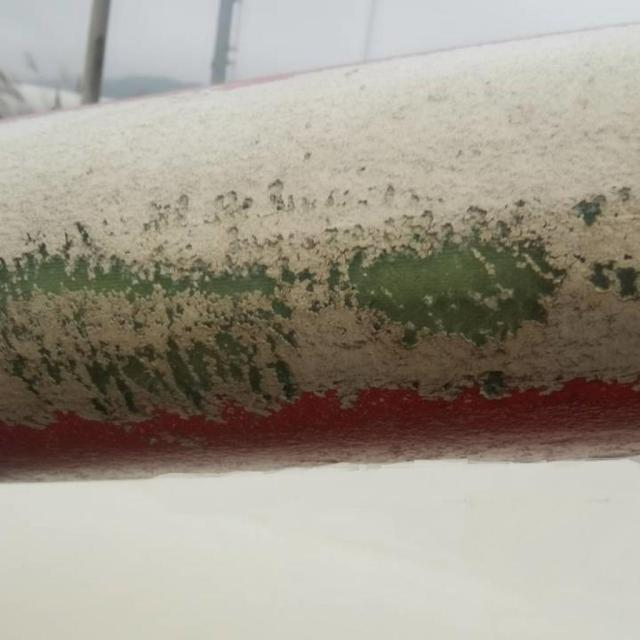corrosion: (5, 51, 636, 423)
